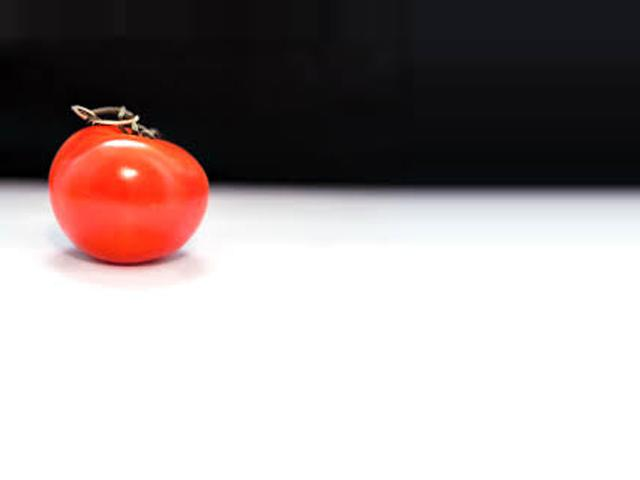tomato: (48, 124, 210, 264)
